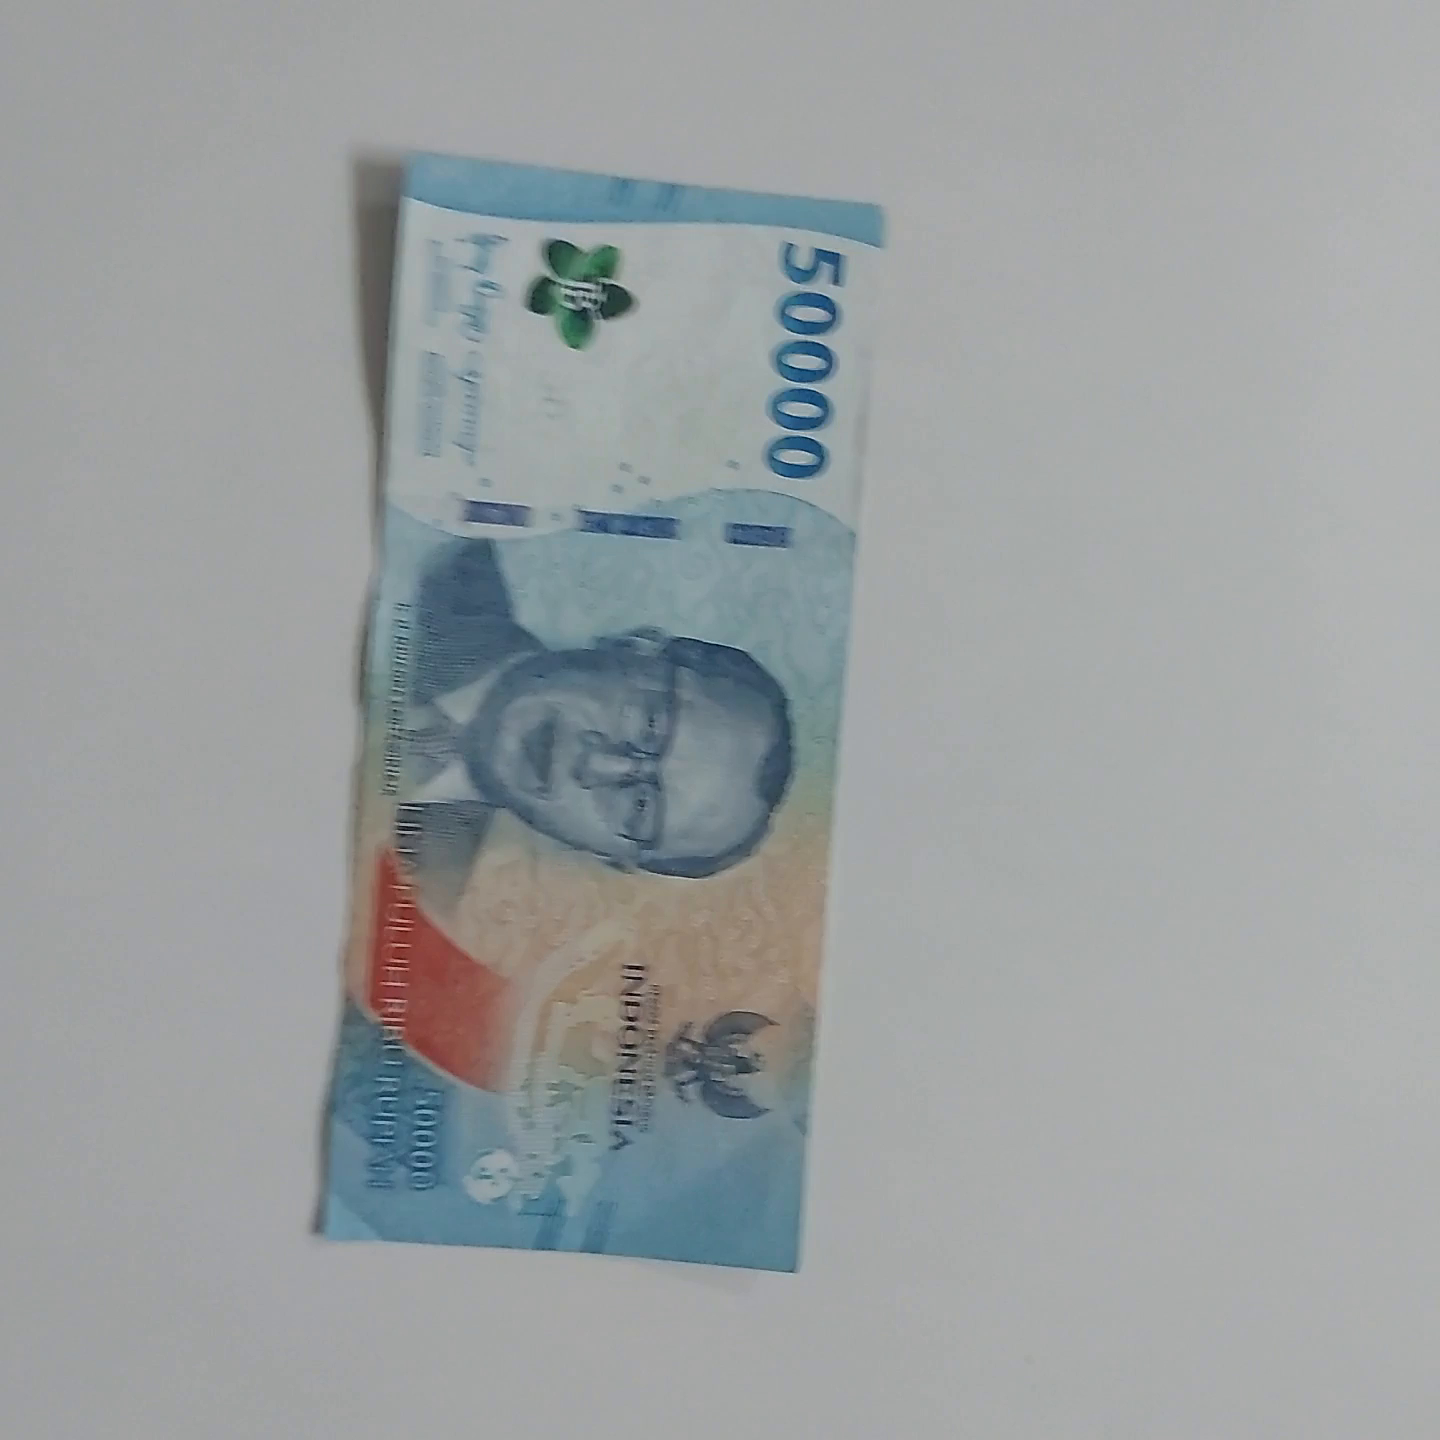50k: (335, 145, 905, 1328)
